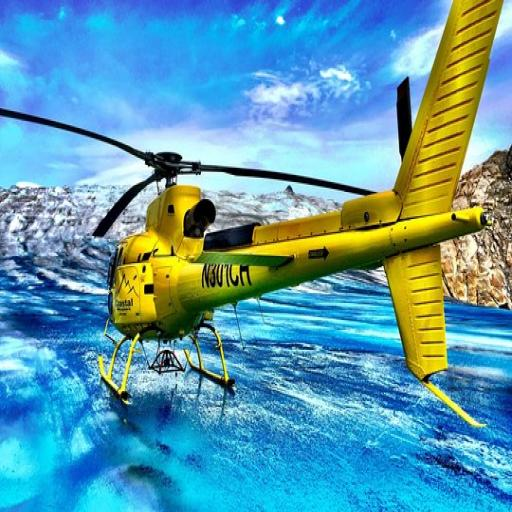helicopter: (13, 3, 503, 431)
